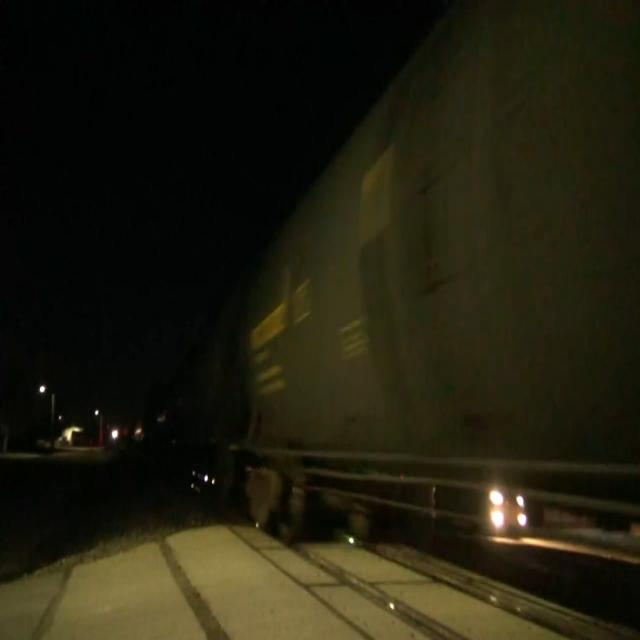tank: (234, 0, 640, 640)
